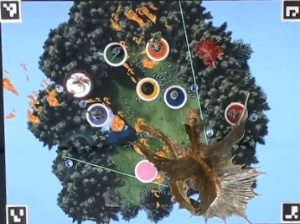blue: (162, 82, 189, 109)
green: (102, 40, 129, 66)
orange: (145, 34, 169, 60)
pink: (133, 157, 157, 182)
red: (225, 100, 251, 125)
violet: (83, 102, 113, 126)
yellow: (134, 73, 160, 101)
